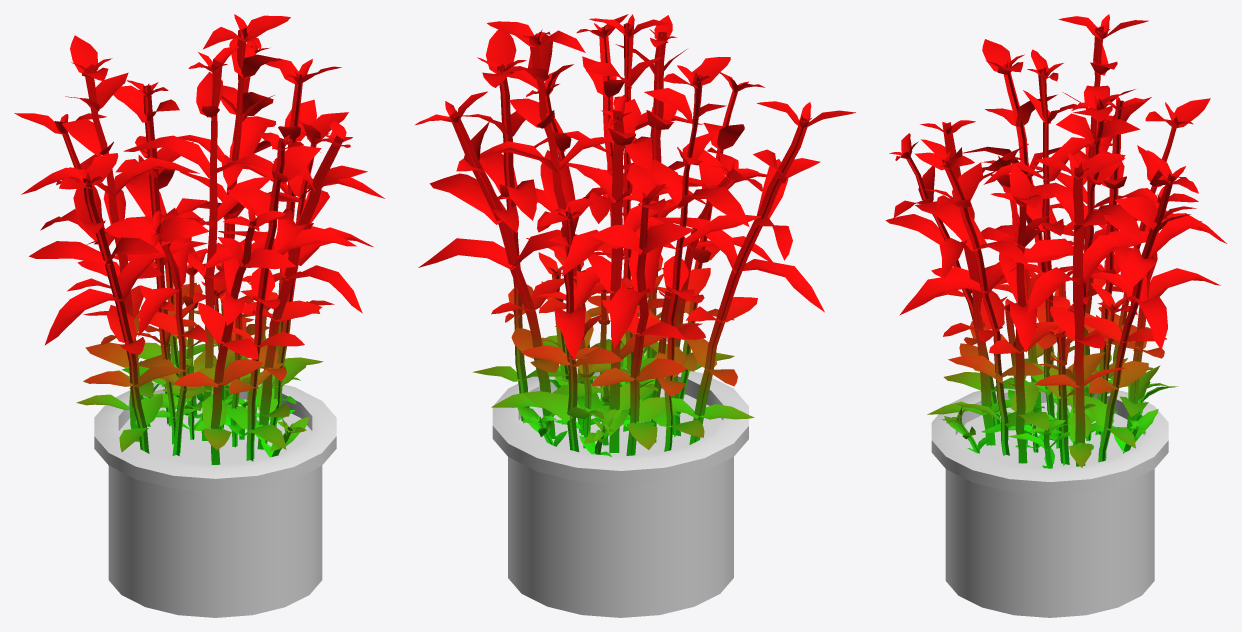
Rendered from SM_Peppermintpot_2.fbx.
3 renders of one model, left to right at view 1: azimuth 30°, elevation 25°; view 2: azimuth 150°, elevation 25°; view 3: azimuth 270°, elevation 25°, orthographic. The views are drawn at different scales.
Parts seen in each view (by area): view 1: Peppermint1, Pot1, Ground1; view 2: Peppermint1, Pot1, Ground1; view 3: Peppermint1, Pot1, Ground1.
Part boxes in pixels (<box>): Peppermint1: <box>14,14,385,464</box>; Pot1: <box>94,382,336,617</box>; Ground1: <box>119,398,311,464</box>; Peppermint1: <box>414,14,855,456</box>; Pot1: <box>492,366,748,617</box>; Ground1: <box>519,386,722,456</box>; Peppermint1: <box>885,14,1226,468</box>; Pot1: <box>931,382,1168,617</box>; Ground1: <box>956,402,1144,468</box>.
Bounding box in the file's own units: 49.14 × 70.23 × 42.78.
